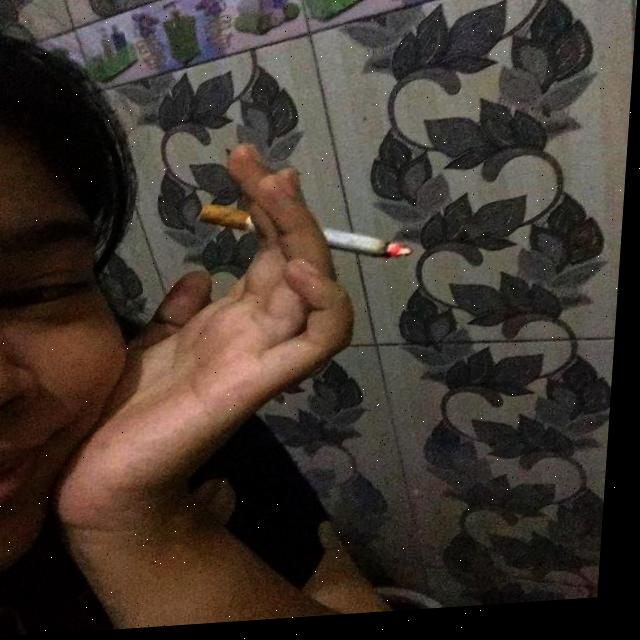cigarette: (199, 194, 419, 276)
